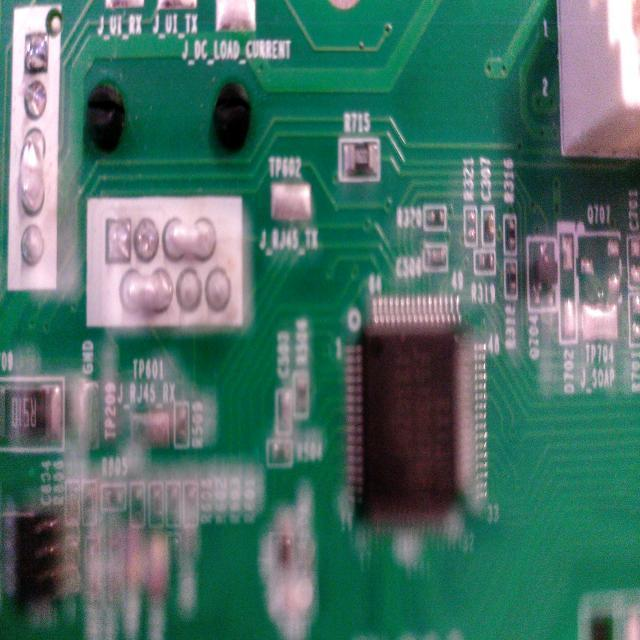Soldering shorted: (159, 210, 219, 260), (16, 132, 48, 218), (118, 270, 173, 318)
